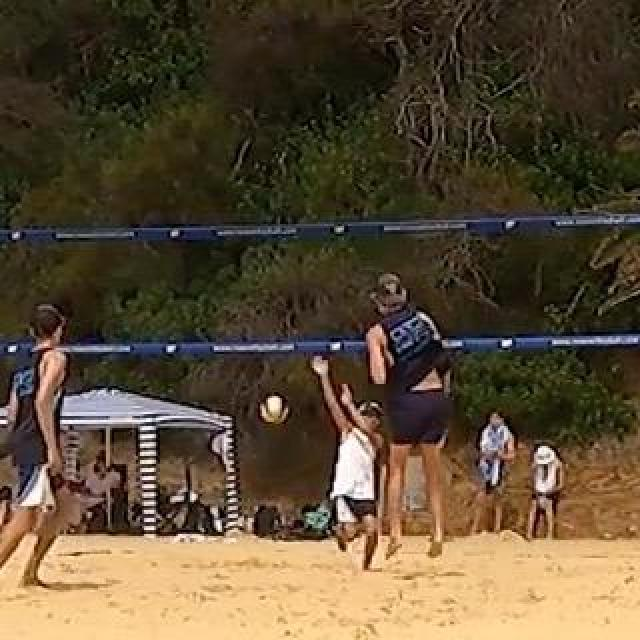volleyball: (264, 394, 290, 424)
